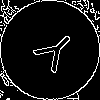Y: (25, 25, 81, 81)
